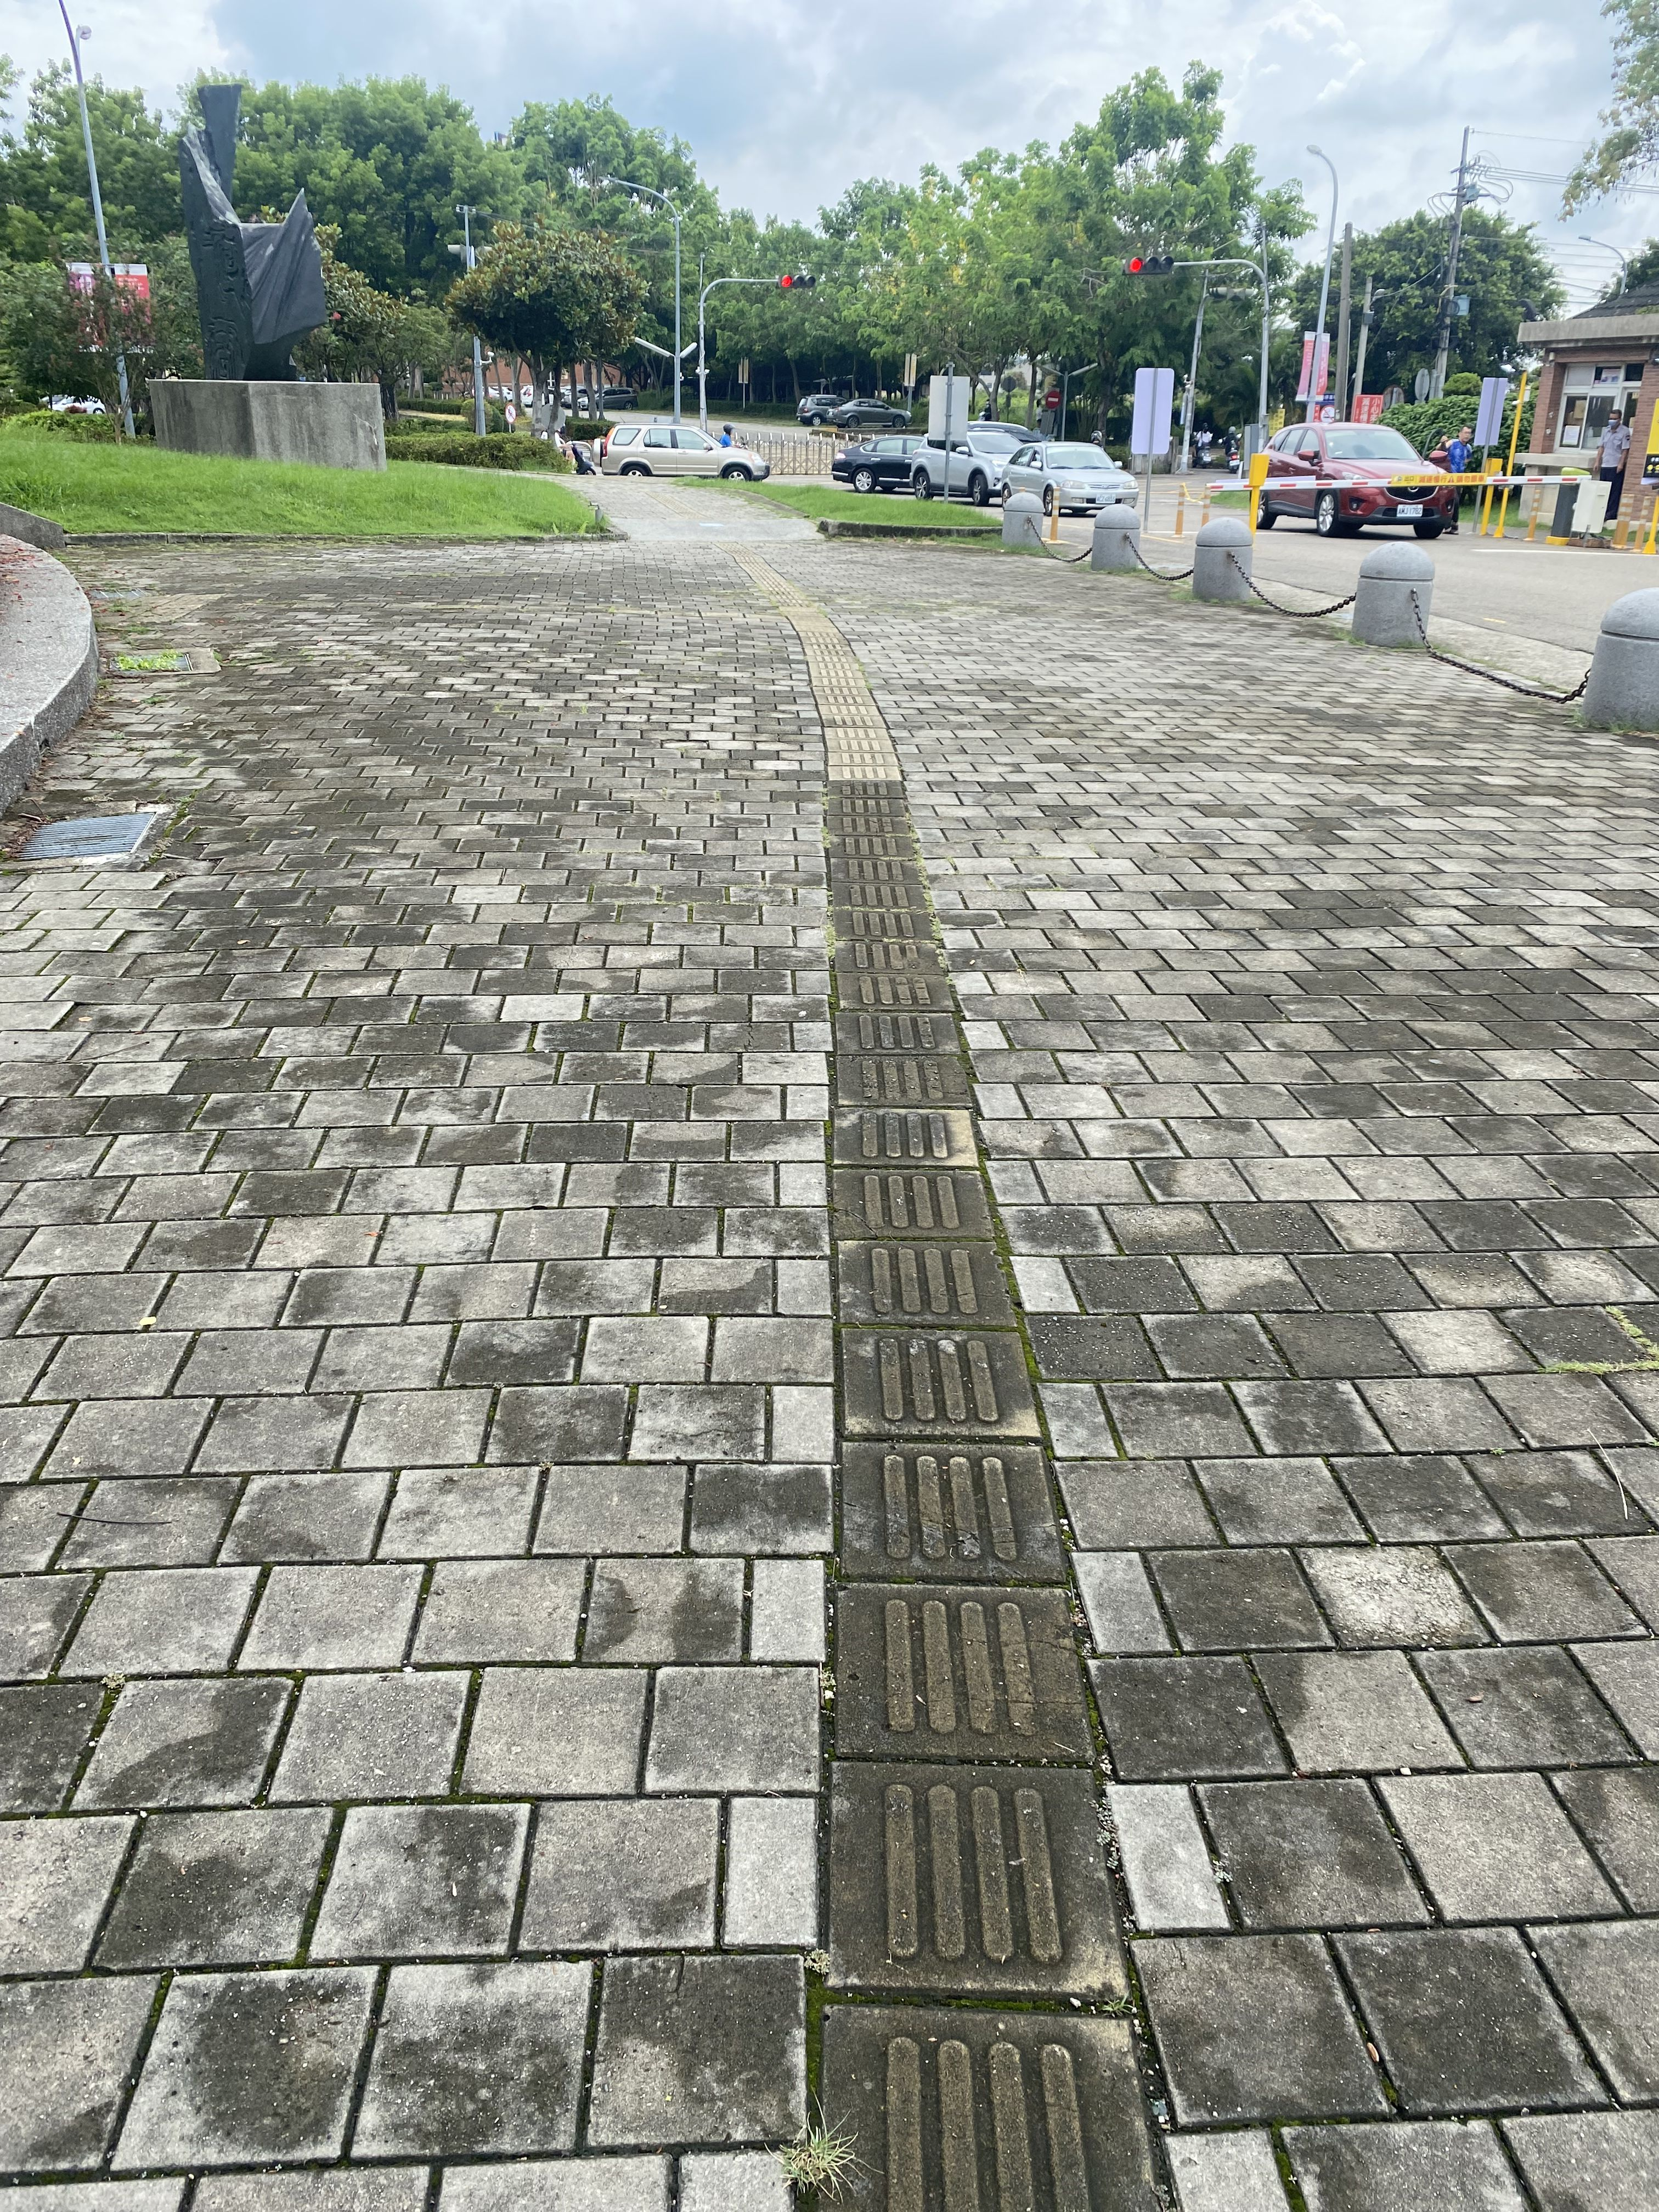sidewalk: (12, 462, 1659, 2212)
